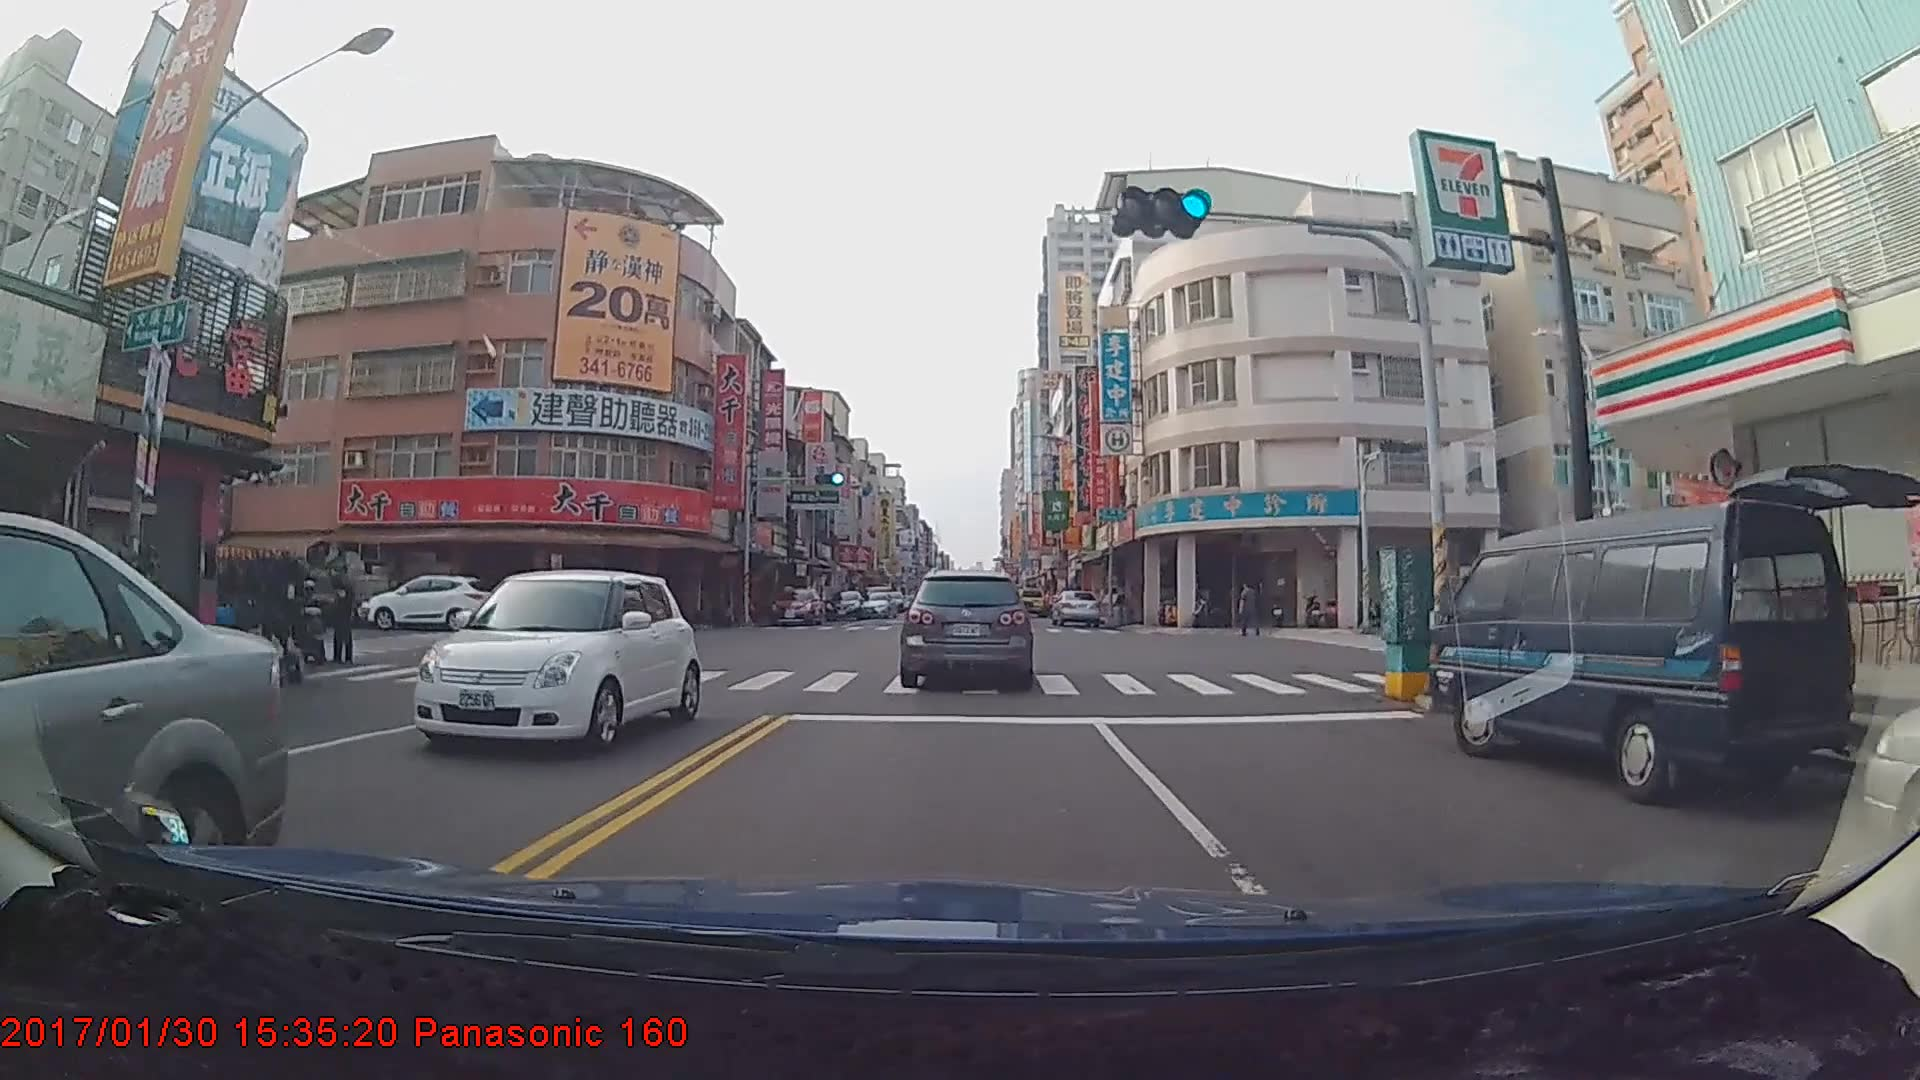pedestrian: (331, 582, 357, 667), (1238, 581, 1261, 639)
rider: (292, 571, 328, 664)
vehicle: (1427, 496, 1857, 810), (0, 507, 289, 936), (407, 562, 698, 754), (901, 568, 1033, 688), (360, 571, 495, 630), (1049, 588, 1102, 629), (769, 585, 819, 627), (825, 587, 865, 617), (1010, 581, 1045, 615), (859, 591, 897, 619)
